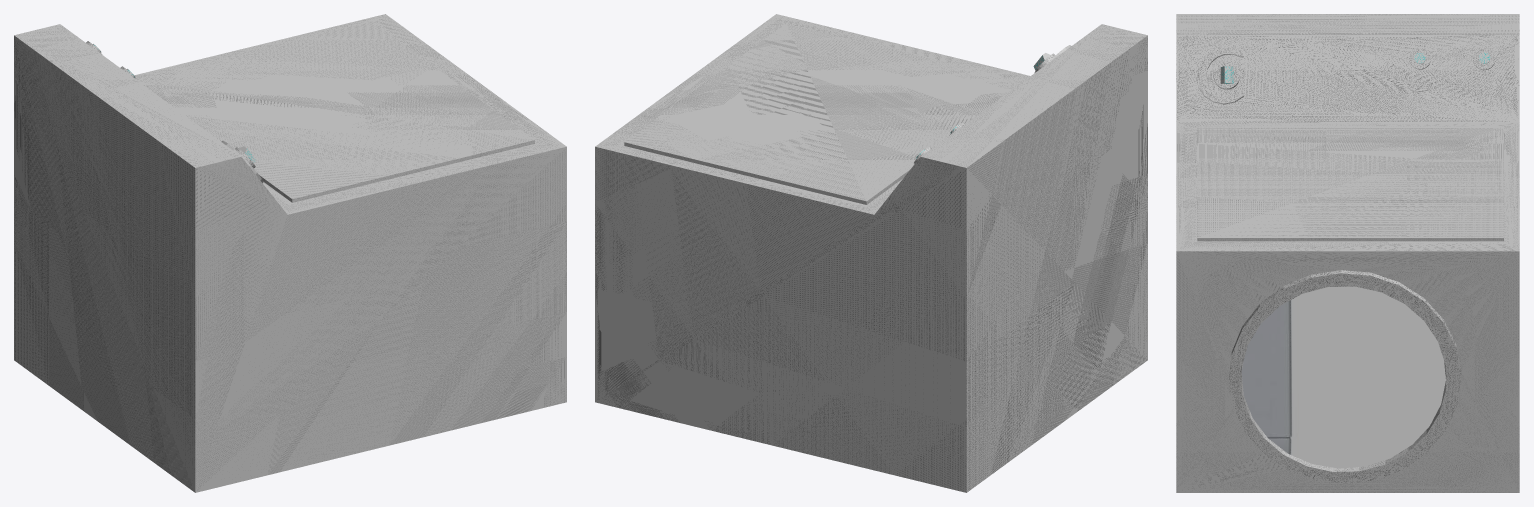
3 views of the same model, side by side, from view 1: azimuth 30°, elevation 25°; view 2: azimuth 150°, elevation 25°; view 3: azimuth 270°, elevation 25° (orthographic). The views are drawn at different scales.
Parts seen in each view (by area): view 1: mesh1_mesh1-geometry; view 2: mesh1_mesh1-geometry; view 3: mesh1_mesh1-geometry, mesh3_mesh3-geometry.
Boxes of the visible parts, x1,y1,x2,y2 form: mesh1_mesh1-geometry: [14, 14, 566, 492]; mesh1_mesh1-geometry: [595, 14, 1147, 492]; mesh1_mesh1-geometry: [1176, 14, 1519, 492]; mesh3_mesh3-geometry: [1241, 286, 1445, 468].
Bounding box in the file's own units: 0.6508 × 0.5339 × 0.5398.
